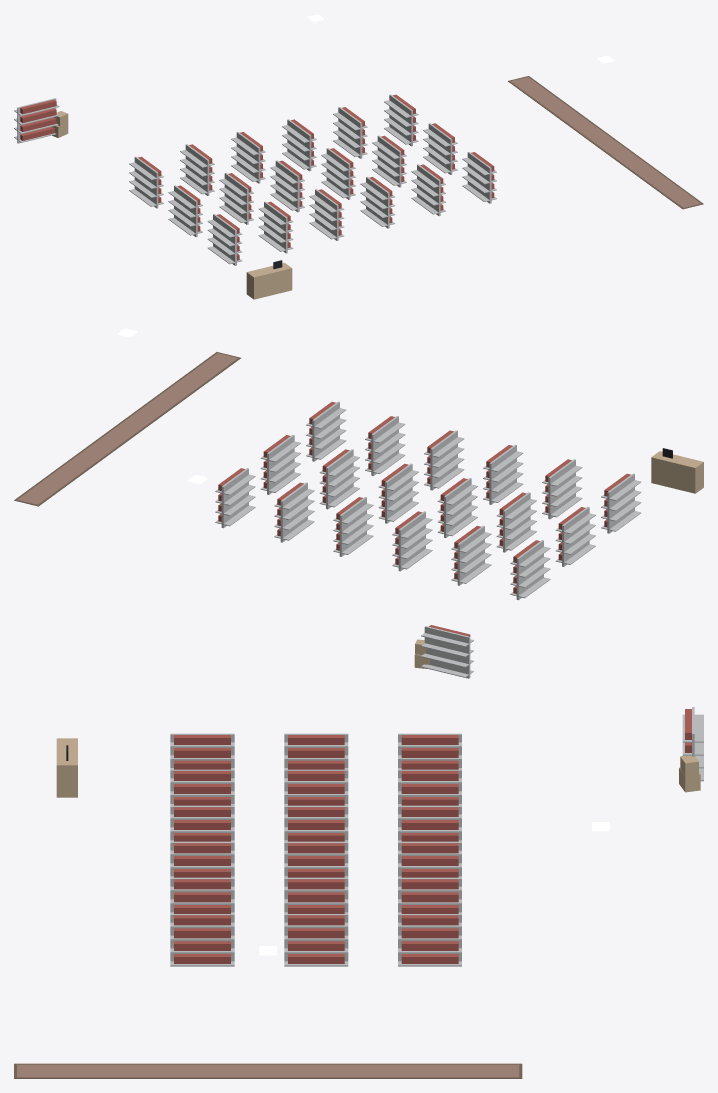
Rendered from fine-s0.glb.
3 views of the same model, one above another, from view 1: azimuth 30°, elevation 25°; view 2: azimuth 150°, elevation 25°; view 3: azimuth 270°, elevation 25° (orthographic). The views are drawn at different scales.
Visible parts, largest first — view 1: soft-s0, shelving.000, shop-counter.000, shelf.004, shelf.010, shelf.017, shelf.013, shelf.003, shelf.000, shelf.007, shelf.008, shelf.005 (+9 smaller); view 2: soft-s0, shelving.000, shop-counter.000, shelf.010, shelf.001, shelf.004, shelf.016, shelf.013, shelf.007, shelf.012, shelf.006, shelf.000 (+9 smaller); view 3: soft-s0, shelf.016, shelf.017, shelf.015, shelf.002, shelf.005, shelf.008, shelf.011, shelf.014, shelf.001, shelf.004, shelf.007 (+10 smaller).
Boxes of the visible parts, bbox=[...] form: soft-s0: bbox=[508, 76, 703, 209]; shelving.000: bbox=[14, 98, 59, 143]; shop-counter.000: bbox=[246, 260, 292, 299]; shelf.004: bbox=[219, 173, 253, 224]; shelf.010: bbox=[321, 148, 355, 199]; shelf.017: bbox=[462, 152, 496, 203]; shelf.013: bbox=[372, 135, 406, 187]; shelf.003: bbox=[180, 144, 214, 195]; shelf.000: bbox=[129, 156, 163, 208]; shelf.007: bbox=[270, 160, 304, 212]; shelf.008: bbox=[309, 189, 344, 240]; shelf.005: bbox=[258, 201, 293, 253]; soft-s0: bbox=[14, 352, 240, 506]; shelving.000: bbox=[421, 625, 473, 678]; shop-counter.000: bbox=[651, 448, 703, 493]; shelf.010: bbox=[378, 463, 418, 523]; shelf.001: bbox=[555, 506, 595, 566]; shelf.004: bbox=[496, 492, 536, 552]; shelf.016: bbox=[260, 434, 300, 494]; shelf.013: bbox=[319, 449, 359, 509]; shelf.007: bbox=[437, 478, 477, 537]; shelf.012: bbox=[274, 482, 314, 542]; shelf.006: bbox=[392, 511, 432, 571]; shelf.000: bbox=[510, 540, 550, 600]; soft-s0: bbox=[14, 1063, 522, 1078]; shelf.016: bbox=[284, 914, 348, 966]; shelf.017: bbox=[170, 914, 234, 966]; shelf.015: bbox=[398, 914, 461, 966]; shelf.002: bbox=[170, 733, 234, 769]; shelf.005: bbox=[170, 769, 234, 805]; shelf.008: bbox=[170, 805, 234, 841]; shelf.011: bbox=[170, 841, 234, 877]; shelf.014: bbox=[170, 877, 234, 913]; shelf.001: bbox=[284, 733, 348, 769]; shelf.004: bbox=[284, 769, 348, 805]; shelf.007: bbox=[284, 805, 348, 841].
Bounding box in the file's own units: 21.31 × 3.77 × 19.4.
